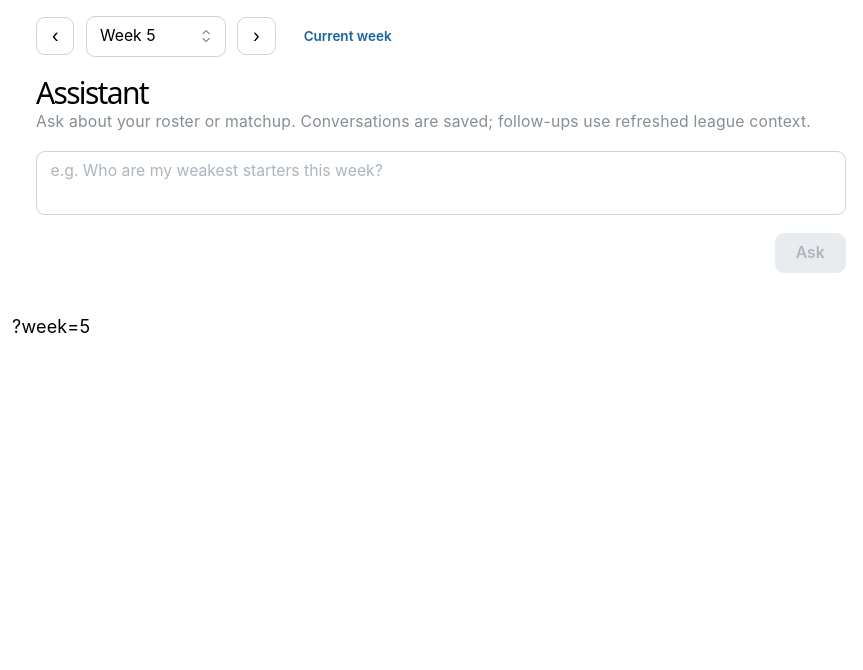
Test: renders answers as Markdown without rendering raw HTML
Type "Compare?" into the text box named "question".
click(441, 183); type("Compare?")  # box [36,151,846,214]
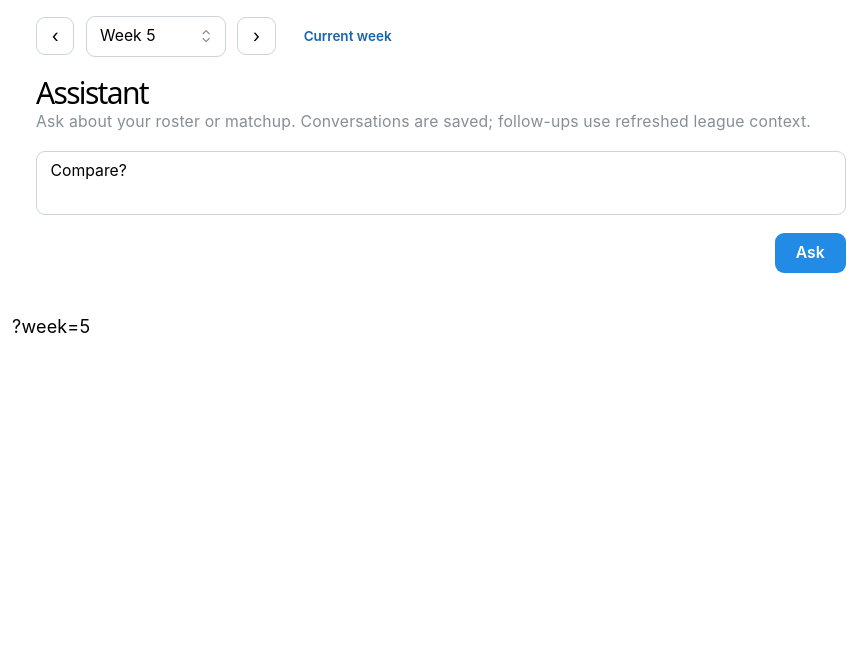
Click the button "Ask".
click(810, 253)  # box [774,232,846,273]
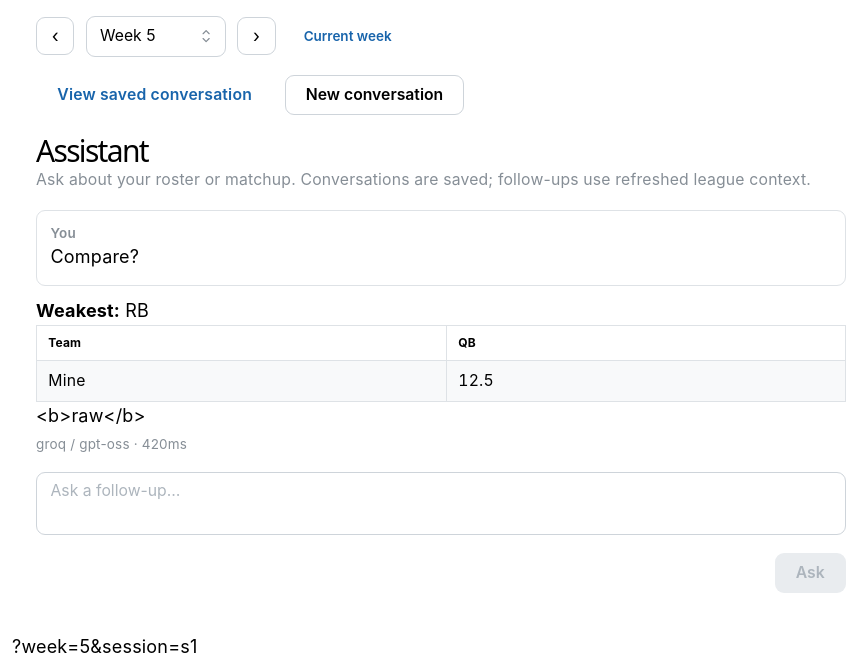
Now the column heading "Team" is shown, box [36,325,447,361]
Now the cell "12.5" is shown, box [447,361,846,402]
